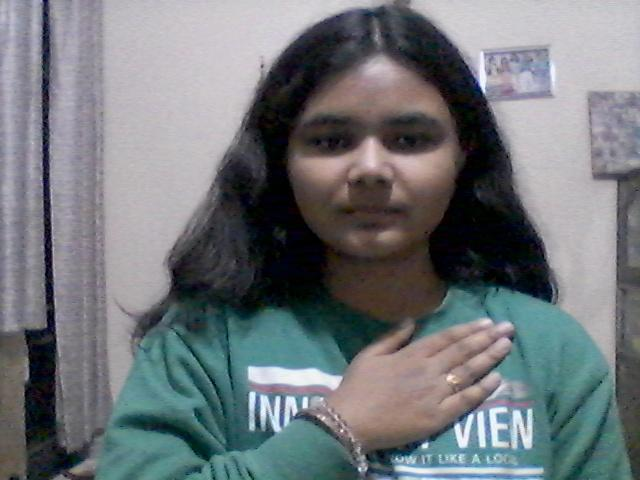please: (319, 309, 528, 455)
